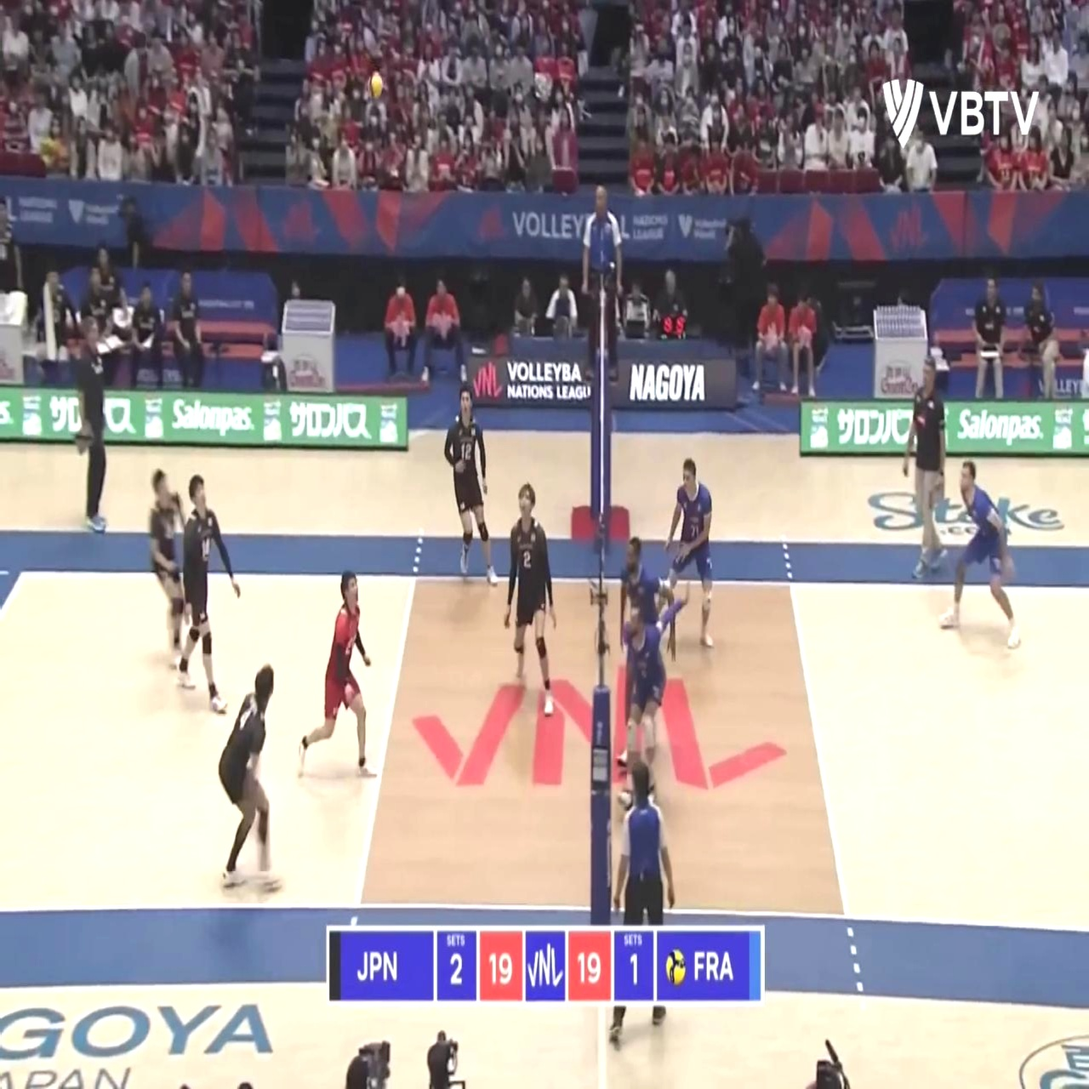ball: (367, 70, 383, 100)
